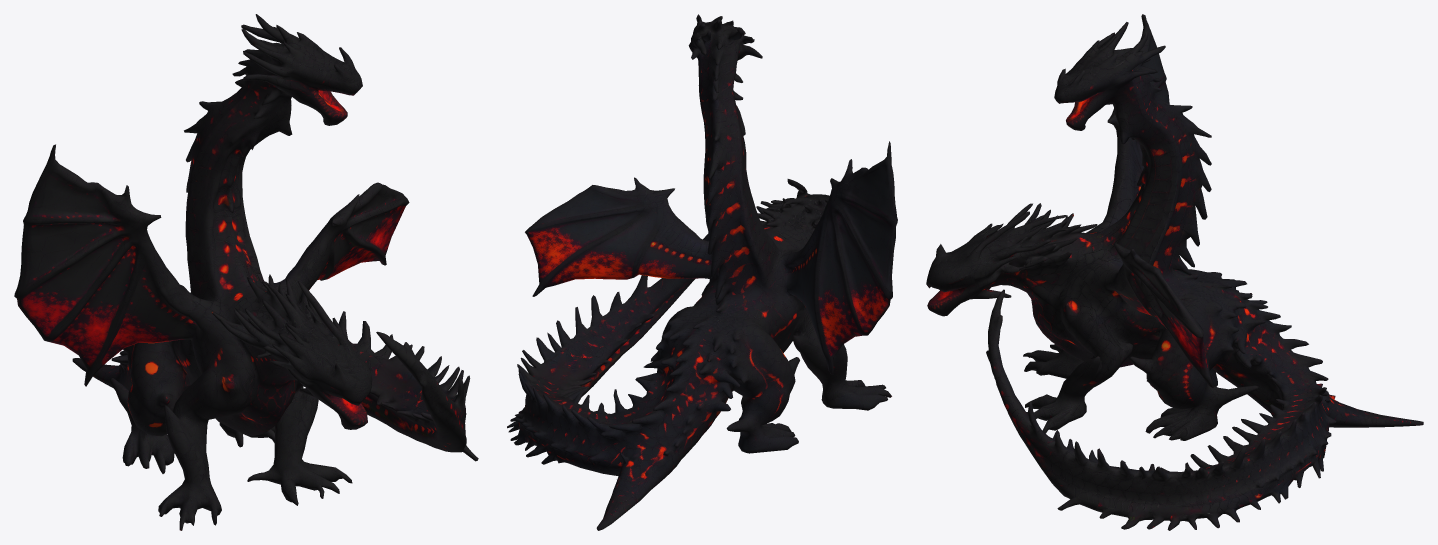
File: abyssal-drake.glb
3 views of the same model, side by side, from view 1: azimuth 30°, elevation 25°; view 2: azimuth 150°, elevation 25°; view 3: azimuth 270°, elevation 25° (orthographic). The views are drawn at different scales.
Bounding box in the file's own units: 1.62 × 1.71 × 1.86.
Materials: 1 (1 with a texture image).
